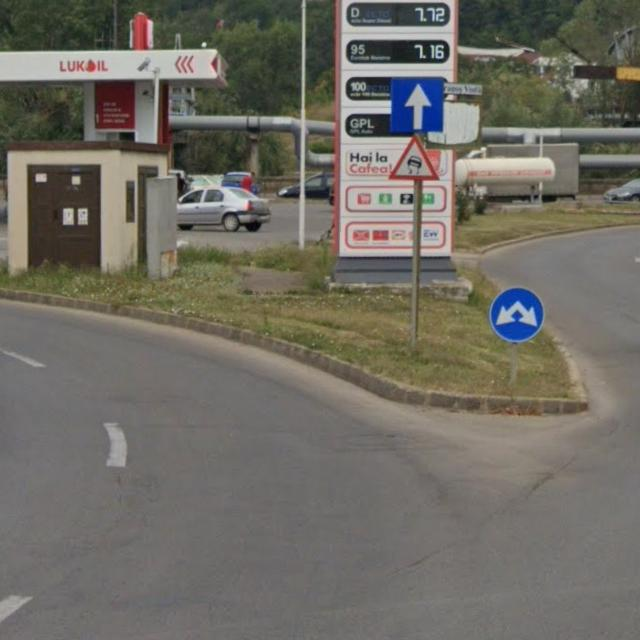info_one_way_traffic: (389, 78, 445, 135)
mand_pass_left_right: (488, 287, 544, 342)
